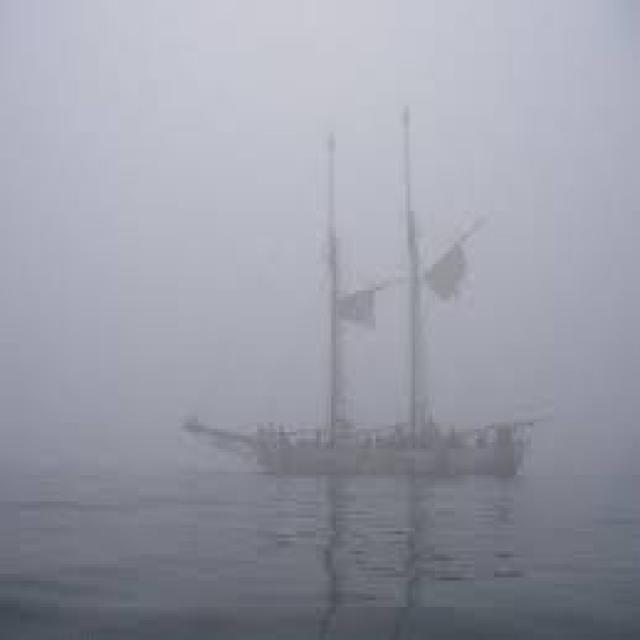fishing boat: (191, 110, 544, 509)
